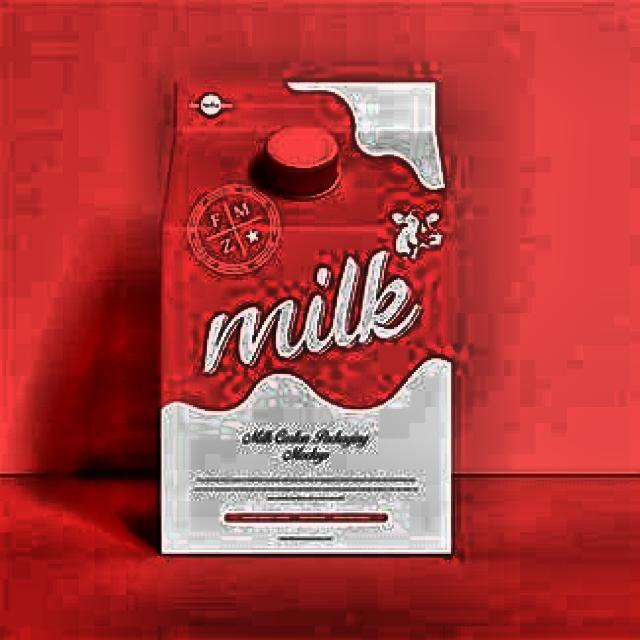cardboard: (157, 76, 455, 554)
